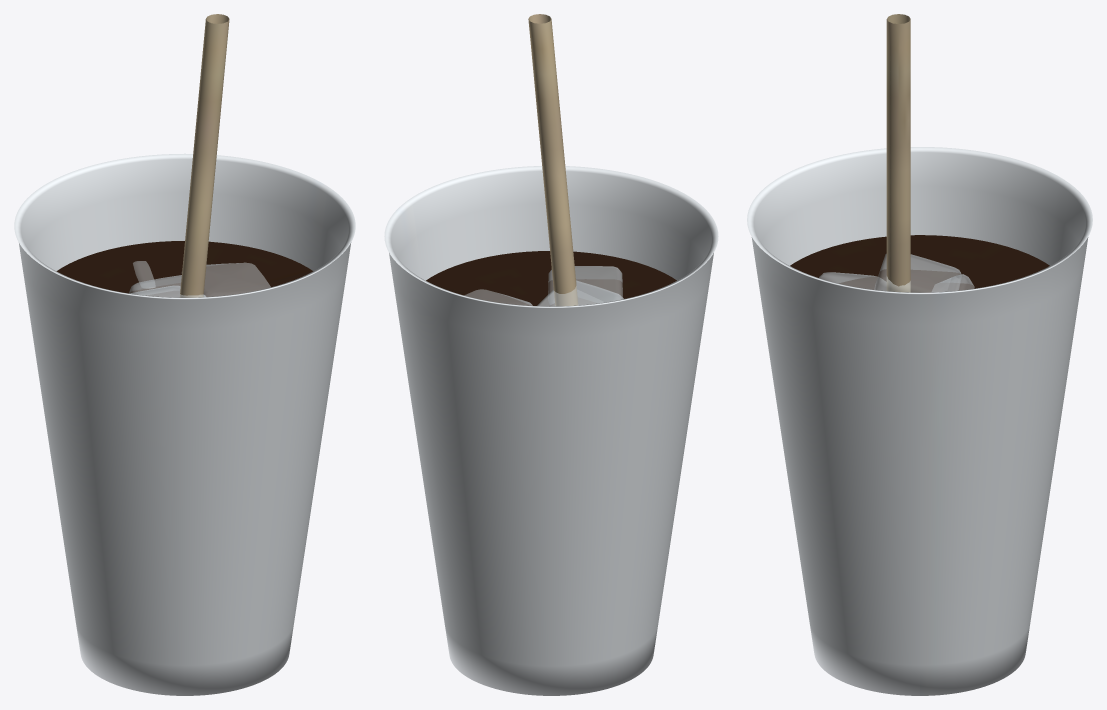
The model's file is iced-americano.glb.
3 renders of one model, left to right at view 1: azimuth 30°, elevation 25°; view 2: azimuth 150°, elevation 25°; view 3: azimuth 270°, elevation 25°, orthographic. The views are drawn at different scales.
Visible parts, largest first — view 1: clear, gloss, satin, ice; view 2: clear, gloss, satin, ice; view 3: clear, gloss, satin, ice.
Part boxes in pixels (x1,y1,x2,y2): clear: [14, 153, 355, 695]; gloss: [56, 241, 313, 297]; satin: [180, 14, 229, 297]; ice: [129, 261, 270, 297]; clear: [384, 166, 718, 695]; gloss: [426, 251, 676, 306]; satin: [528, 14, 578, 306]; ice: [464, 266, 623, 306]; clear: [747, 147, 1092, 695]; gloss: [790, 235, 1049, 292]; satin: [886, 14, 910, 292]; ice: [819, 254, 974, 292].
Size of the model in its own units: 0.098 by 0.201 by 0.098.
4 materials, 4 textured.
